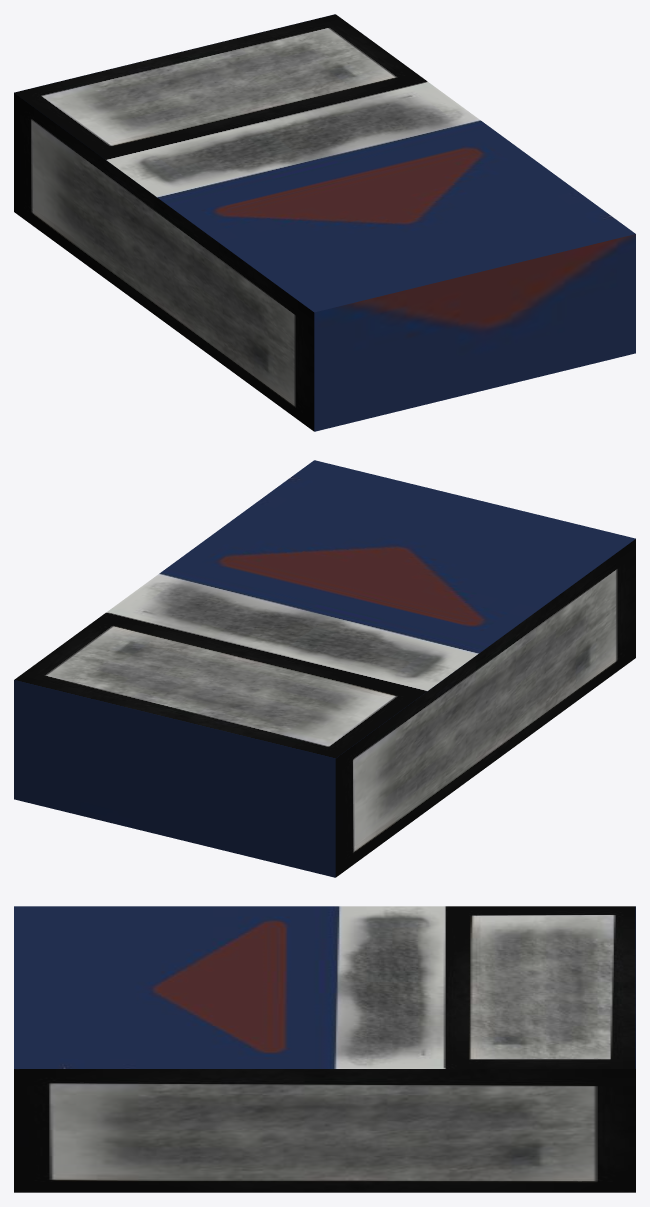
Rendered from Prop_Cig.fbx.
The picture shows the model from 3 angles, top to bottom: view 1: azimuth 30°, elevation 25°; view 2: azimuth 150°, elevation 25°; view 3: azimuth 270°, elevation 25°; orthographic projection. The views are drawn at different scales.
Parts seen in each view (by area): view 1: CigarettePack; view 2: CigarettePack; view 3: CigarettePack.
Boxes of the visible parts, <box> form: CigarettePack: <box>14,14,635,431</box>; CigarettePack: <box>14,460,635,877</box>; CigarettePack: <box>14,906,635,1192</box>.
Size of the model in its own units: 5.85 by 2.08 by 9.47.
